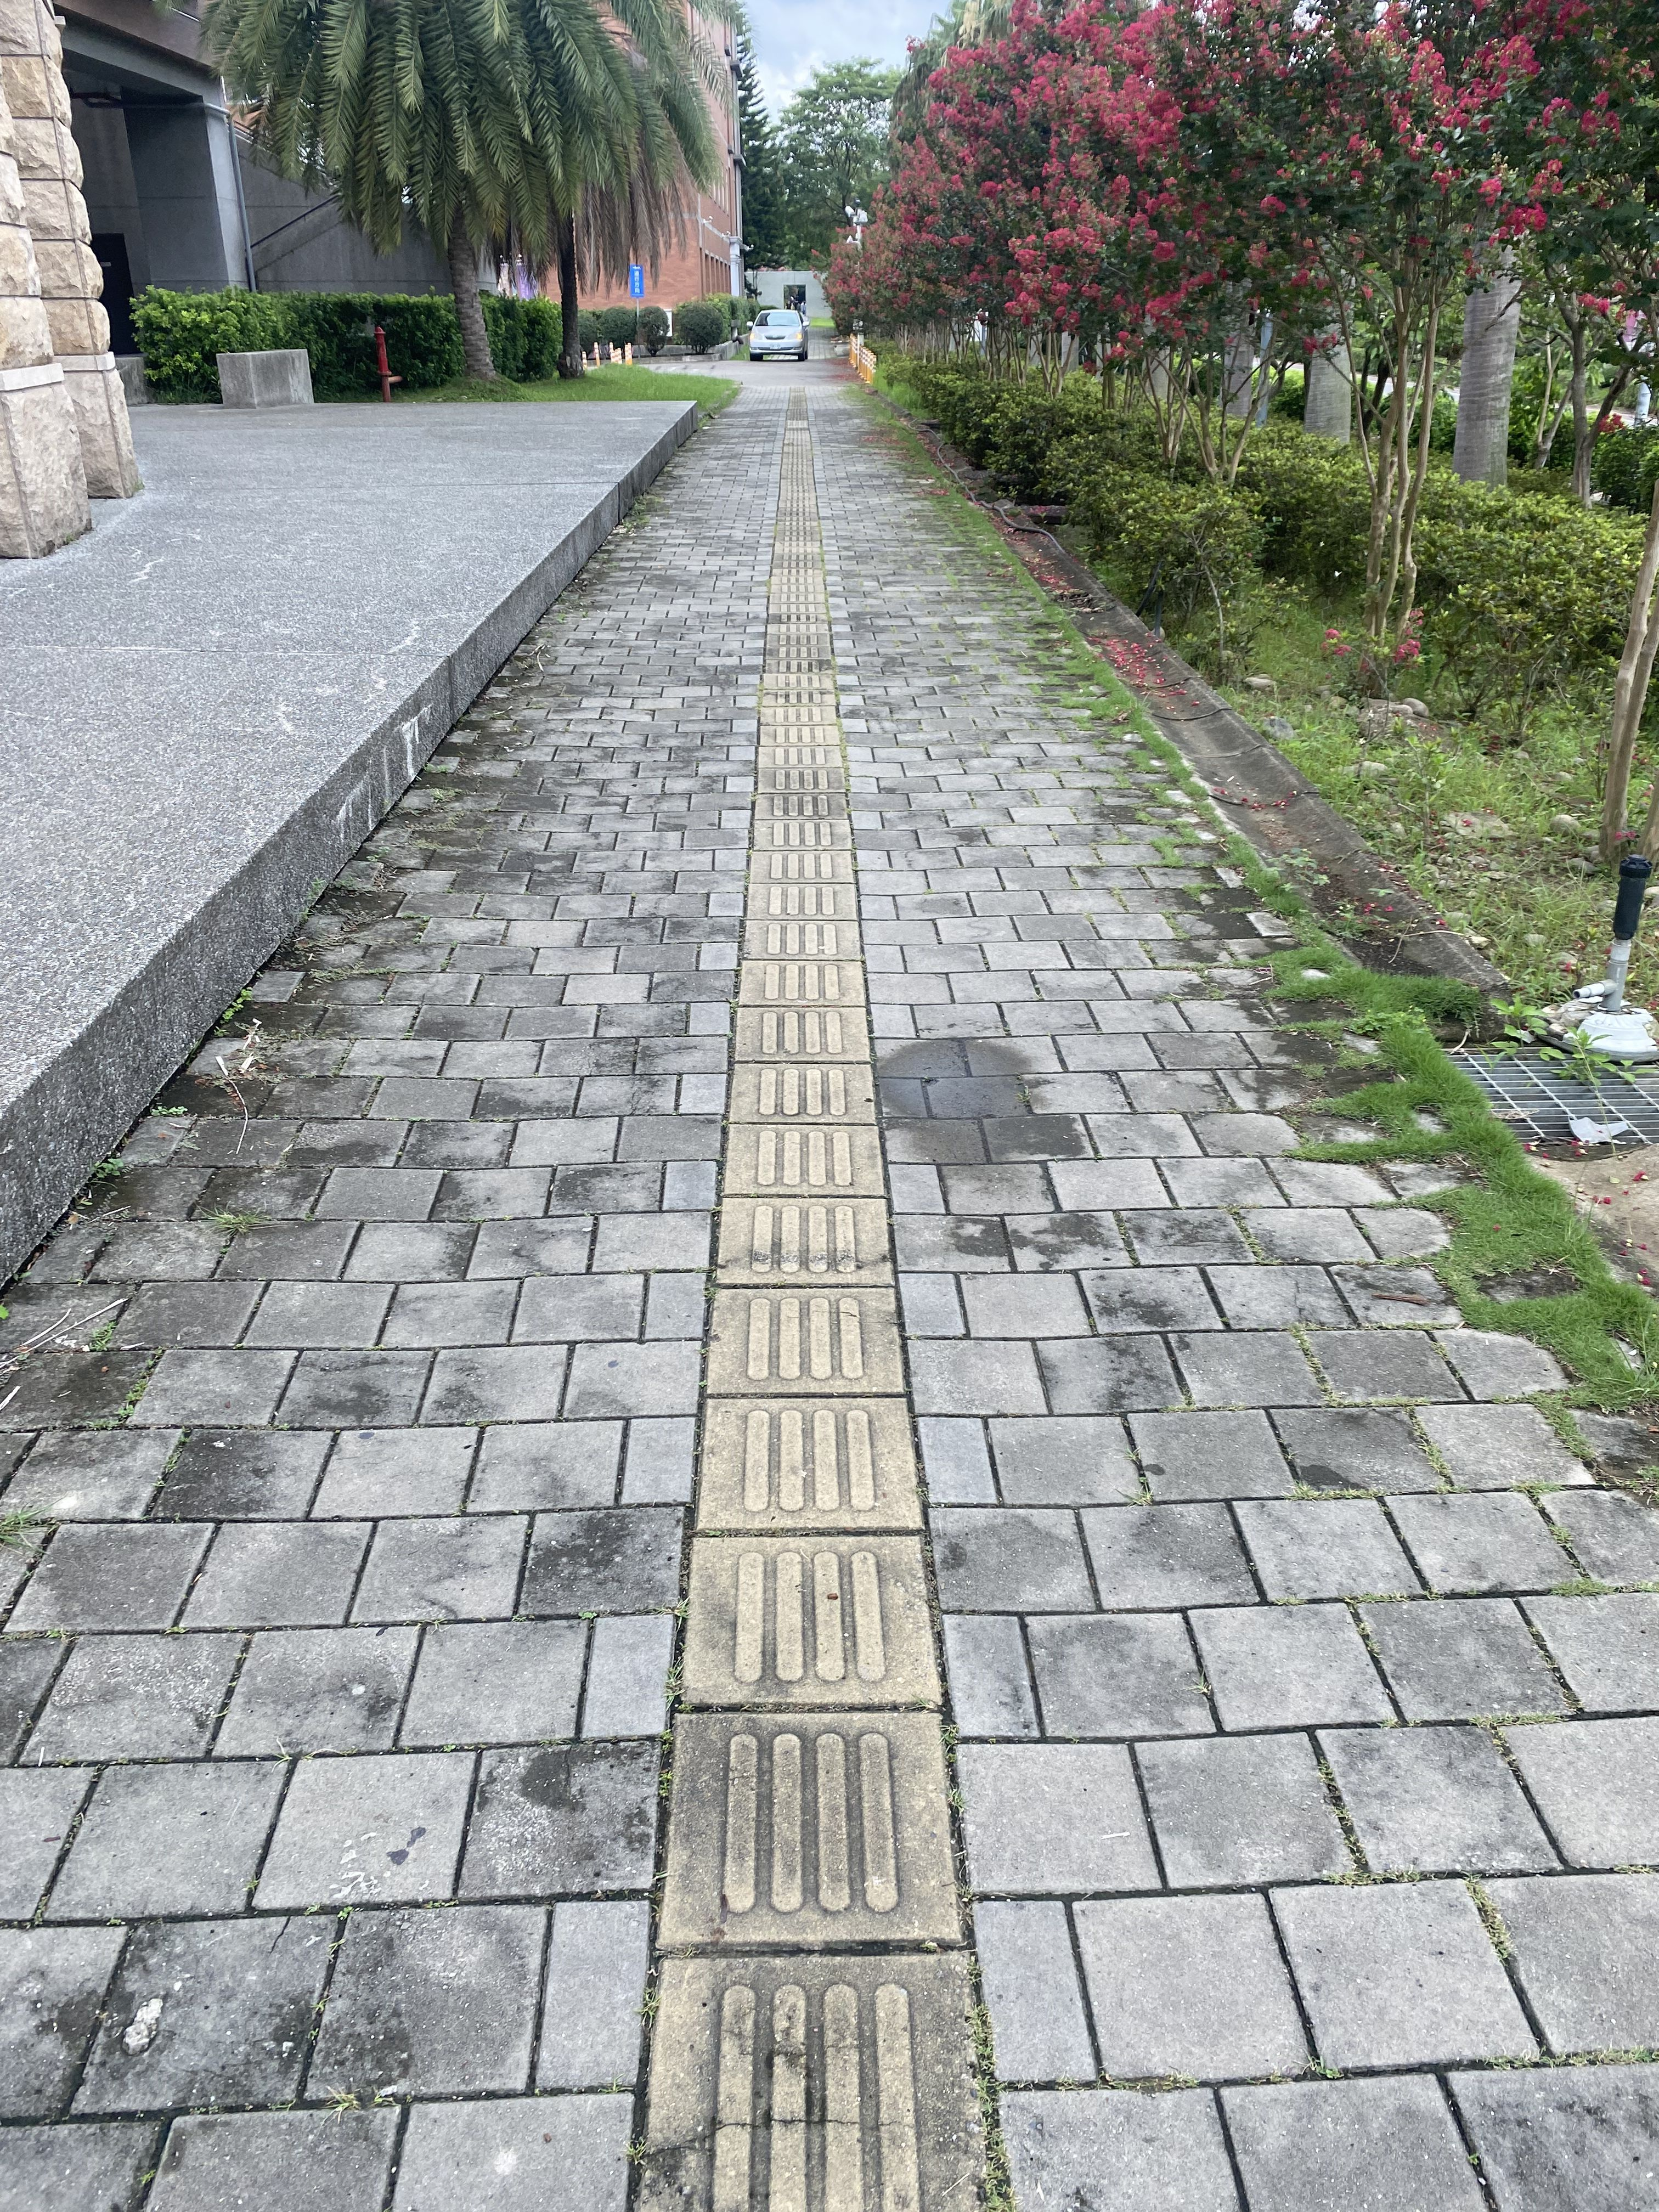0: (5, 545, 1659, 2212)
sidewalk: (587, 402, 1148, 1345)
